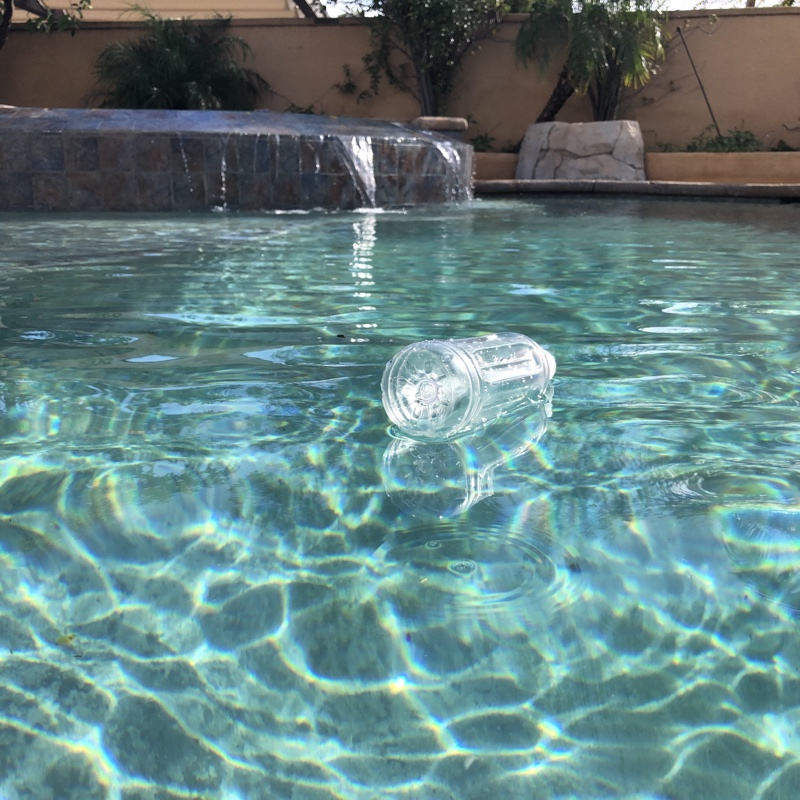Plastic Bottle: (374, 323, 561, 454)
